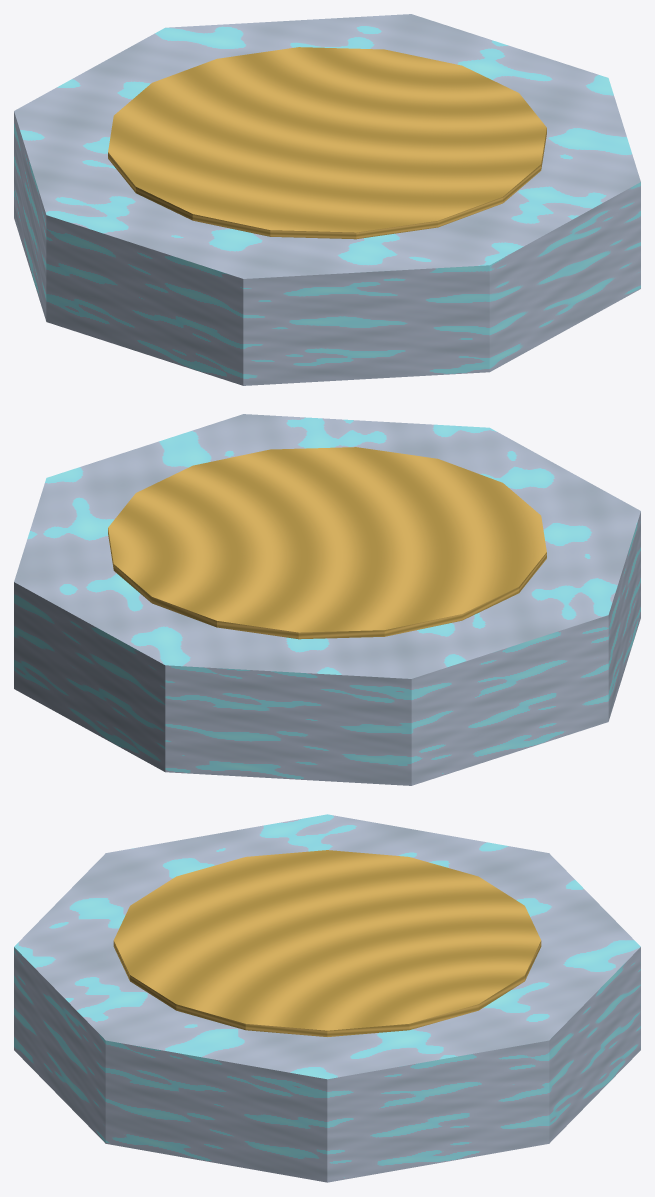
File: thermal_updraft_vent.glb
3 views of the same model, one above another, from view 1: azimuth 30°, elevation 25°; view 2: azimuth 150°, elevation 25°; view 3: azimuth 270°, elevation 25° (orthographic). The views are drawn at different scales.
Parts seen in each view (by area): view 1: ThermalUpdraftVent; view 2: ThermalUpdraftVent; view 3: ThermalUpdraftVent.
Boxes of the visible parts, bbox=[...] form: ThermalUpdraftVent: bbox=[14, 14, 640, 385]; ThermalUpdraftVent: bbox=[14, 414, 640, 785]; ThermalUpdraftVent: bbox=[14, 814, 640, 1182].
Size of the model in its own units: 4.4 by 0.85 by 4.4.
Materials: 2 (2 with a texture image).
